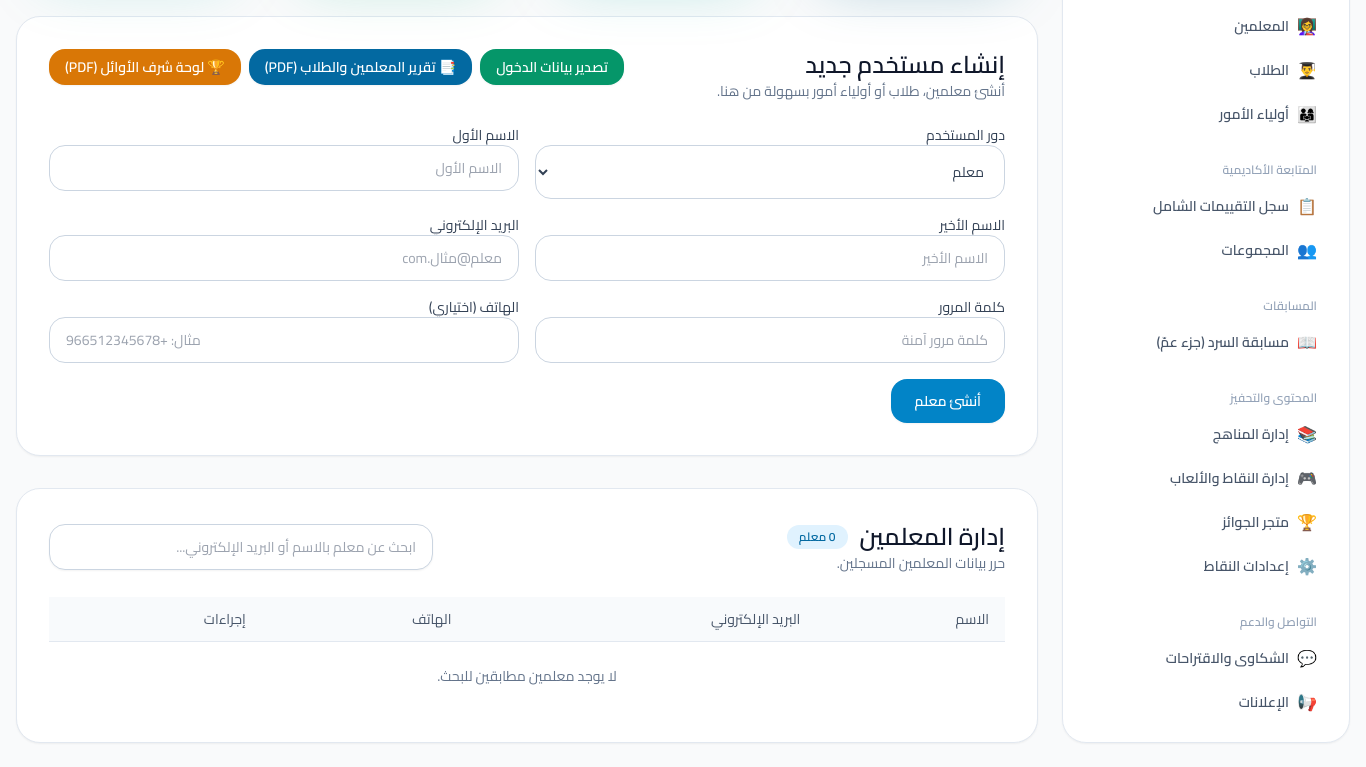
Scenario: groups admin navigation and keeps announcement creation in its section
(page scrolled)
Expected: the heading "المتابعة الأكاديمية" is shown, 1222,158 -> 1317,181
Expected: the heading "المحتوى والتحفيز" is shown, 1230,386 -> 1317,409
Click the button "📢 الإعلانات": (1206, 702) 1083,682 -> 1329,722
(page scrolled)
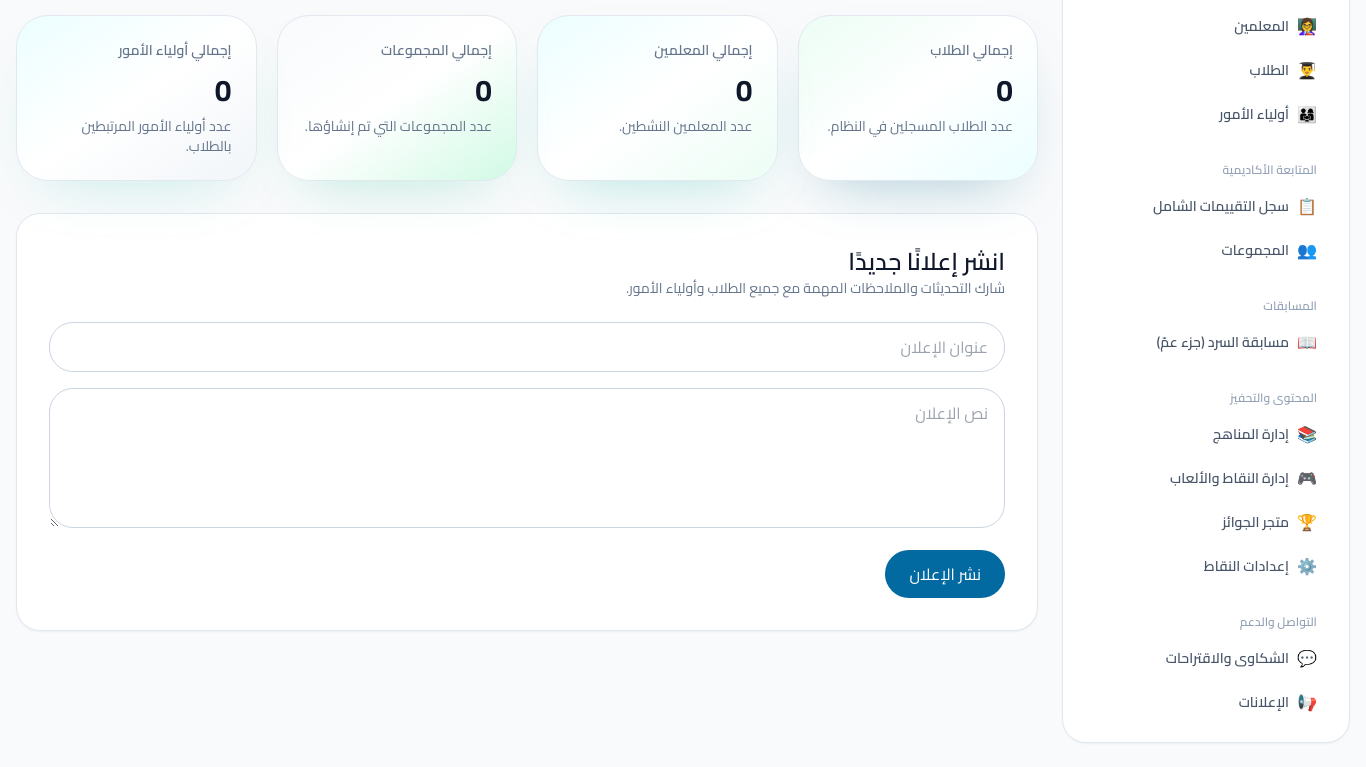
Expected: the heading "انشر إعلانًا جديدًا" is shown, 848,239 -> 1005,284
Click the button "👩‍🏫 المعلمين": (1206, 26) 1083,6 -> 1329,46
(page scrolled)
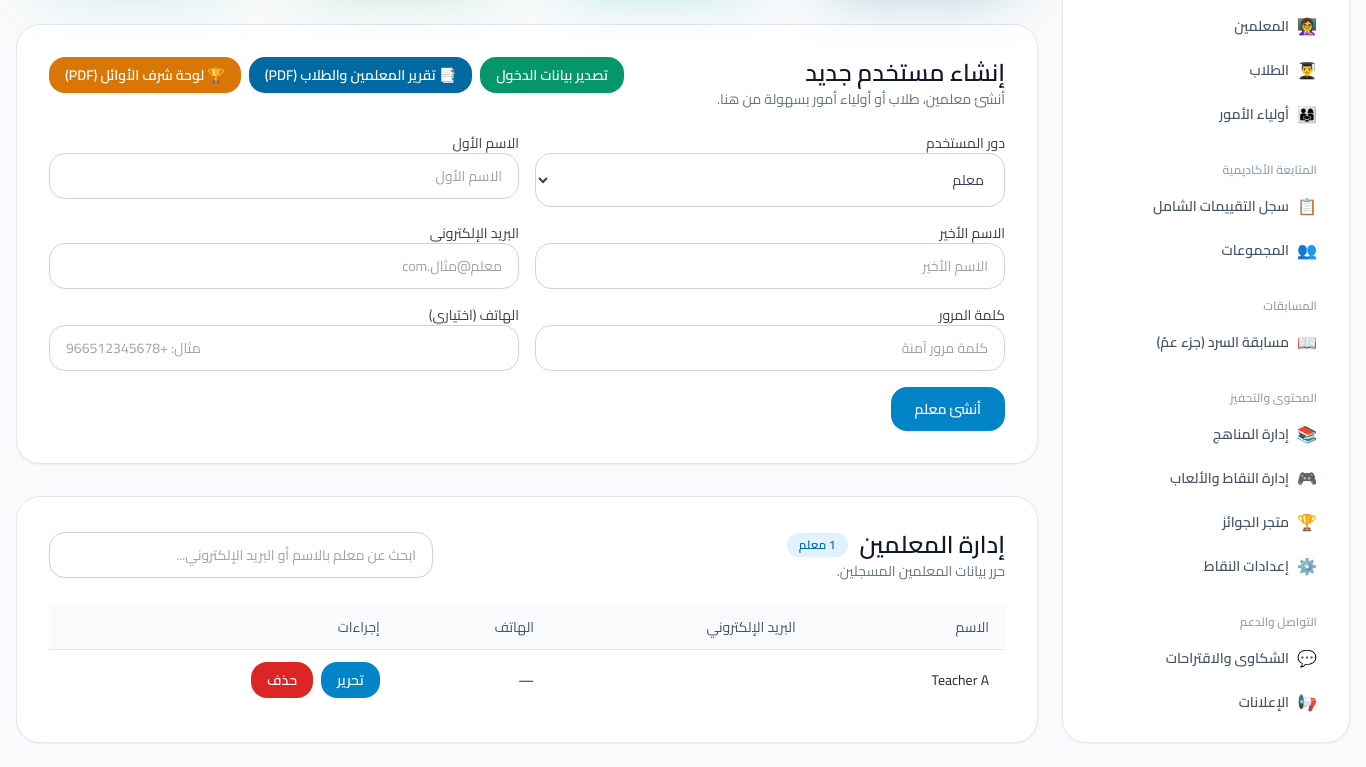
Expected: the heading "انشر إعلانًا جديدًا" is gone
